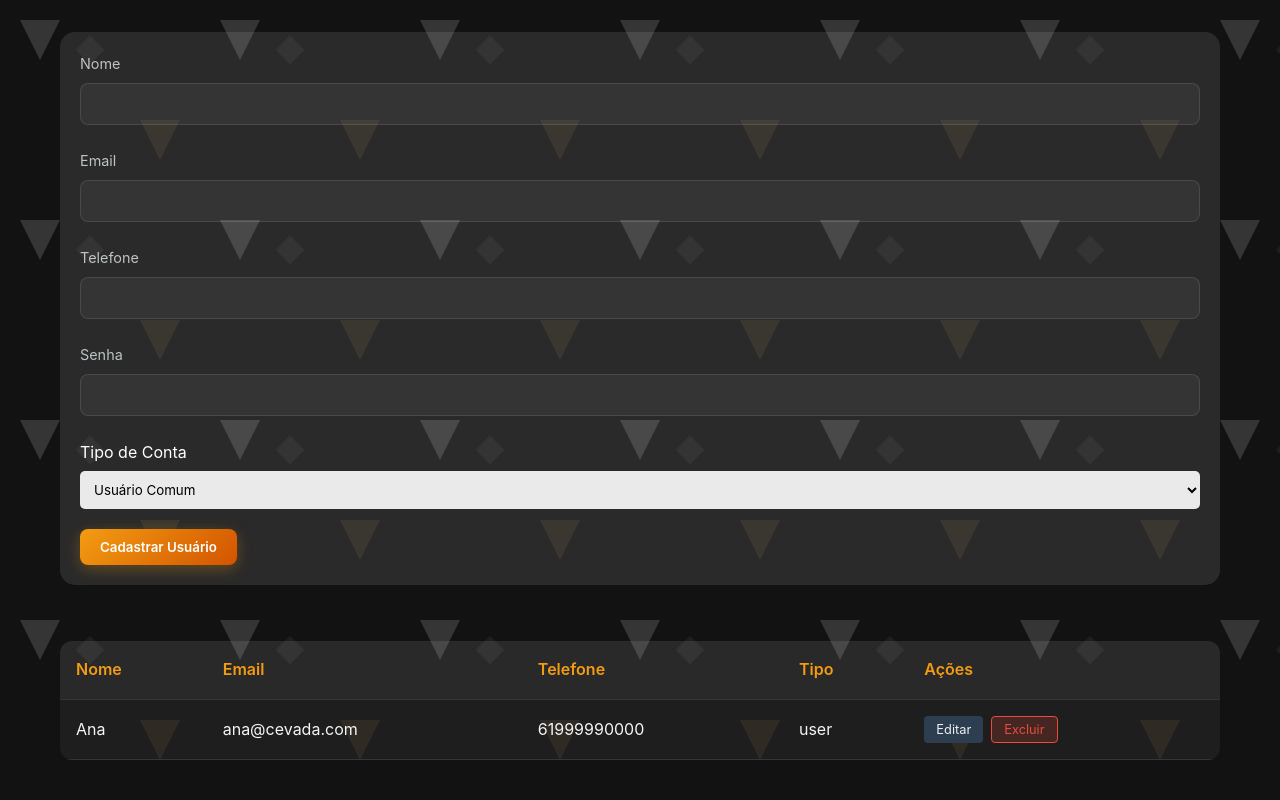
Test: editar sem digitar senha mantém a atual e não envia senha
(page scrolled)
Click the button "Editar" at (954, 729), box [924,716,983,743]
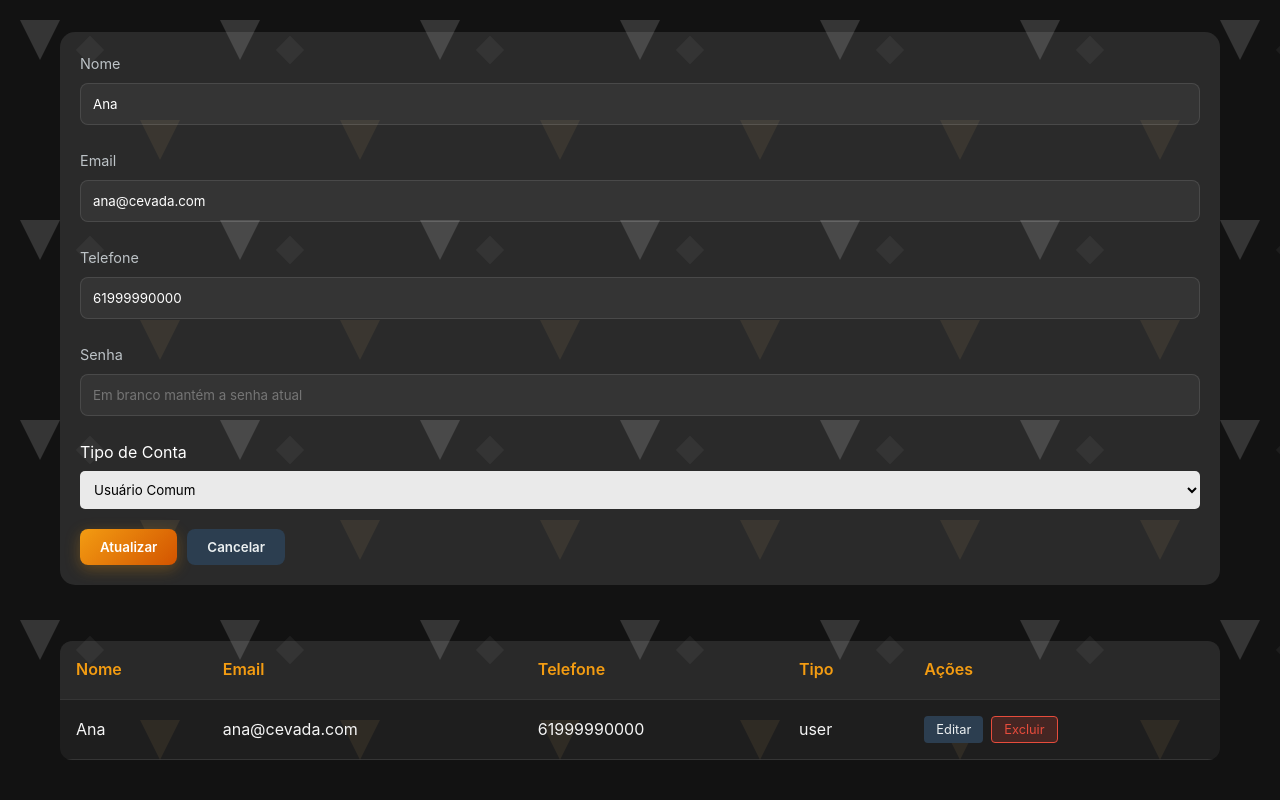
Expected: the password field labelled "Senha" is empty, [80,374,1200,416]
Replace the text in the field labelled "Nome" with "Ana Maria" at (640, 104), box [80,83,1200,125]
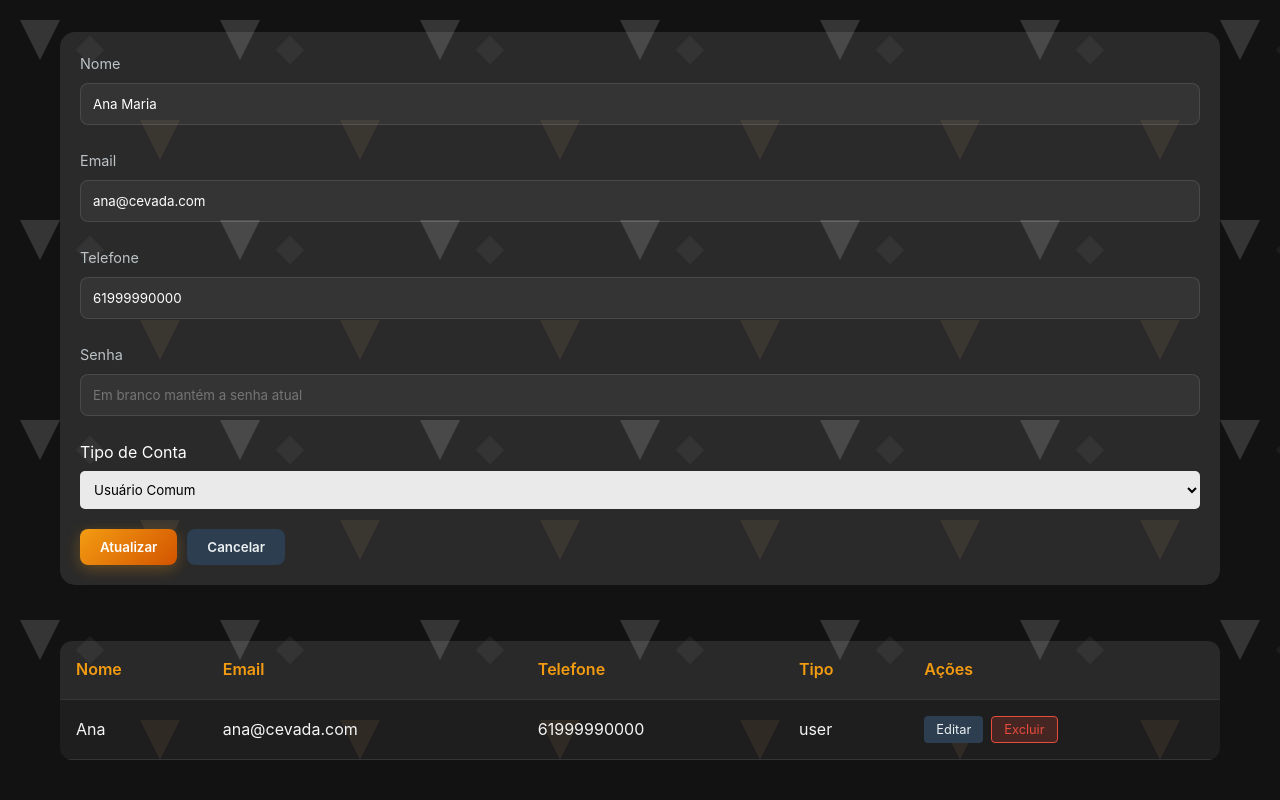
Click the button "Atualizar" at (129, 547), box [80,529,177,565]
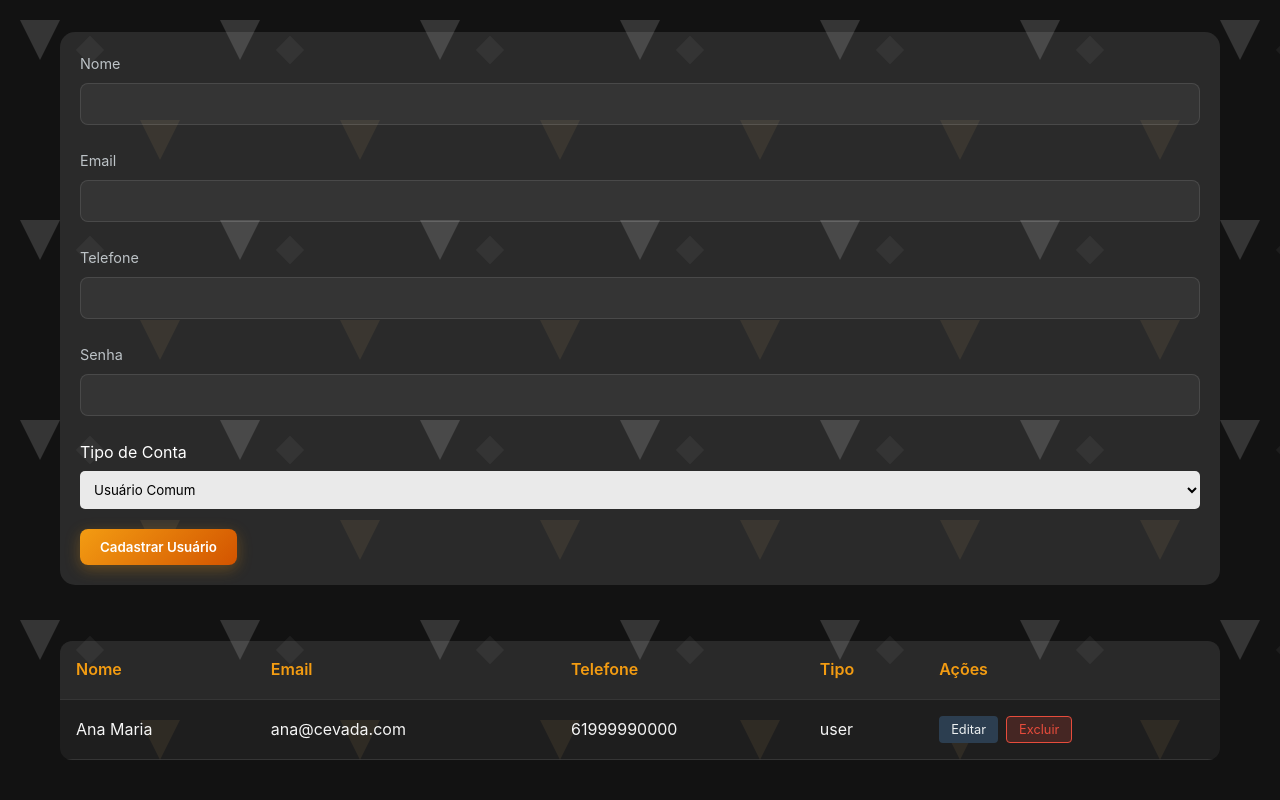
Result: the text "Ana Maria" is shown at [60,699,255,760]
